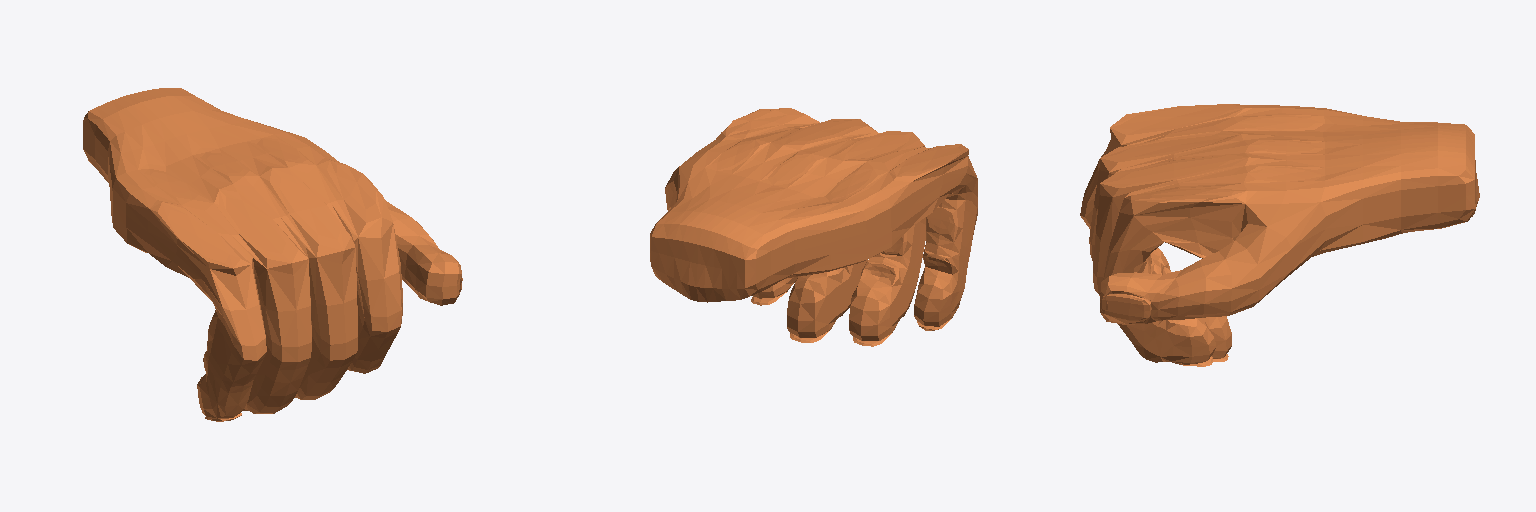
File: hand9.obj
3 renders of one model, left to right at view 1: azimuth 30°, elevation 25°; view 2: azimuth 150°, elevation 25°; view 3: azimuth 270°, elevation 25°, orthographic.
Parts seen in each view (by area): view 1: Box001; view 2: Box001; view 3: Box001.
Part boxes in pixels (left/top/right/bottom): Box001: left=83, top=88, right=462, bottom=421; Box001: left=650, top=108, right=977, bottom=346; Box001: left=1080, top=104, right=1479, bottom=366.
Bounding box in the file's own units: 196 × 152 × 263.